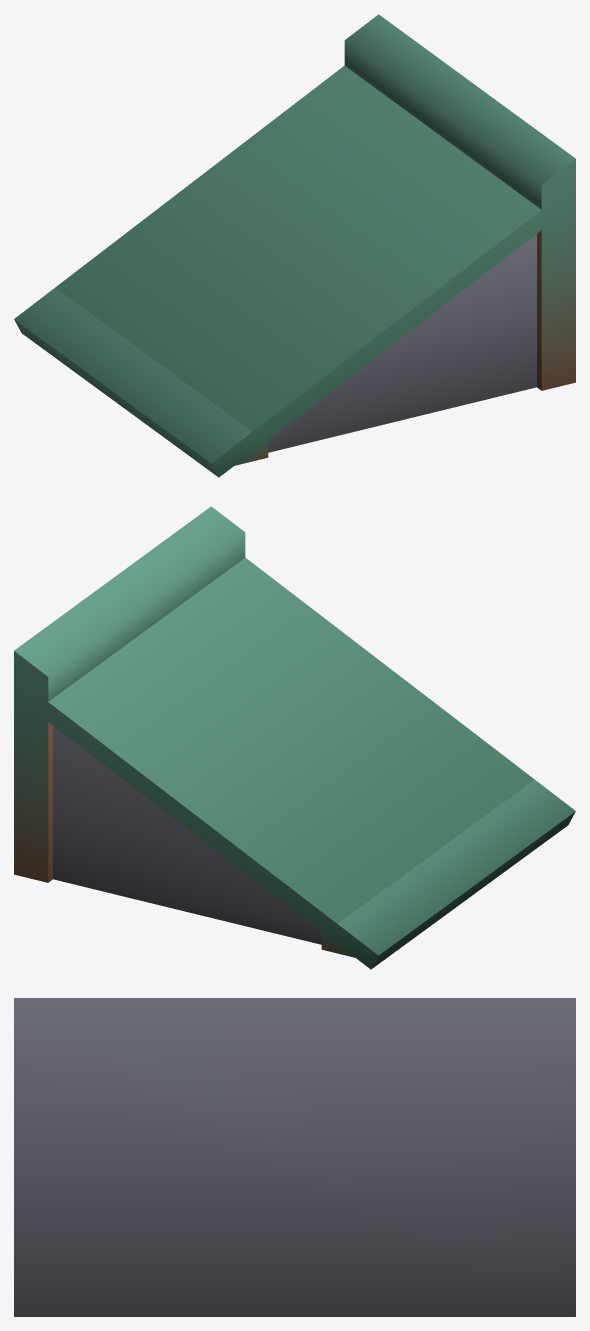
Rendered from roof.glb.
3 renders of one model, top to bottom at view 1: azimuth 30°, elevation 25°; view 2: azimuth 150°, elevation 25°; view 3: azimuth 270°, elevation 25°, orthographic. The views are drawn at different scales.
Visible parts, largest first — view 1: roof; view 2: roof; view 3: roof.
Boxes of the visible parts, left/top/right/bottom form: roof: left=14, top=14, right=575, bottom=477; roof: left=14, top=506, right=575, bottom=969; roof: left=14, top=998, right=575, bottom=1316.
Bounding box in the file's own units: 3.2 × 1.94 × 3.
